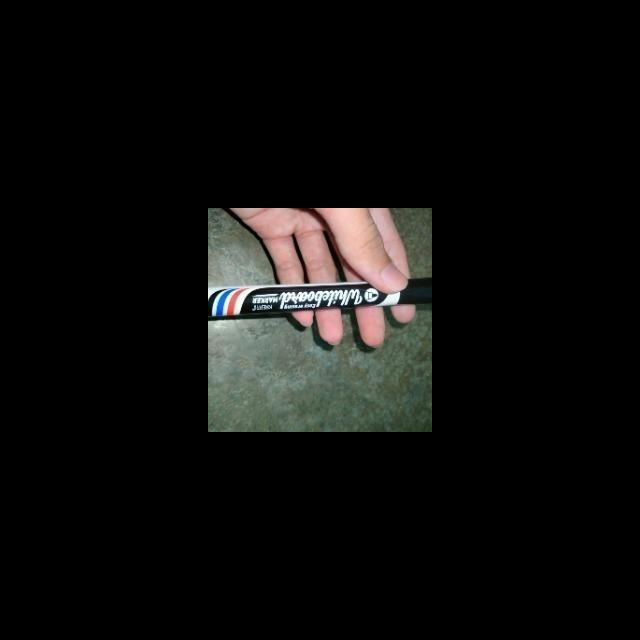plastic: (208, 278, 432, 317)
